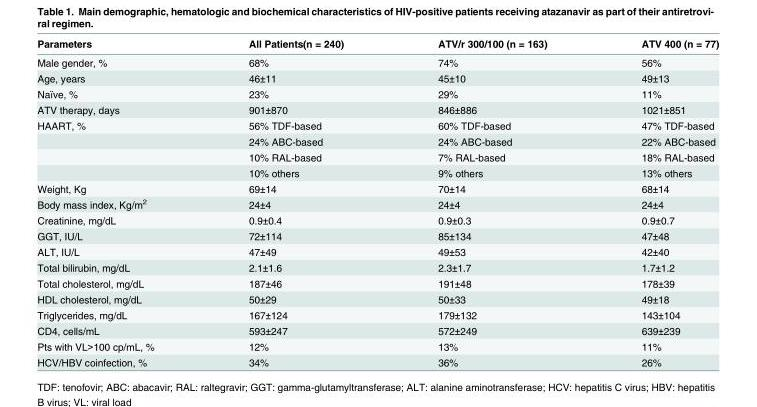table: (36, 37, 718, 367)
table column: (390, 37, 593, 367), (200, 37, 390, 367), (36, 37, 200, 367), (593, 37, 718, 367)
table column header: (36, 37, 718, 52)
table row: (36, 52, 718, 70), (36, 195, 718, 212), (36, 85, 718, 101), (36, 101, 718, 117), (36, 117, 718, 133), (36, 148, 718, 164), (36, 164, 718, 180), (36, 227, 718, 243), (36, 243, 718, 259), (36, 259, 718, 275), (36, 290, 718, 306), (36, 306, 718, 322), (36, 322, 718, 338), (36, 338, 718, 354), (36, 37, 718, 52), (36, 70, 718, 85), (36, 133, 718, 148), (36, 180, 718, 195), (36, 212, 718, 227), (36, 275, 718, 290), (36, 354, 718, 367)
table spanning cell: (36, 117, 200, 180)
